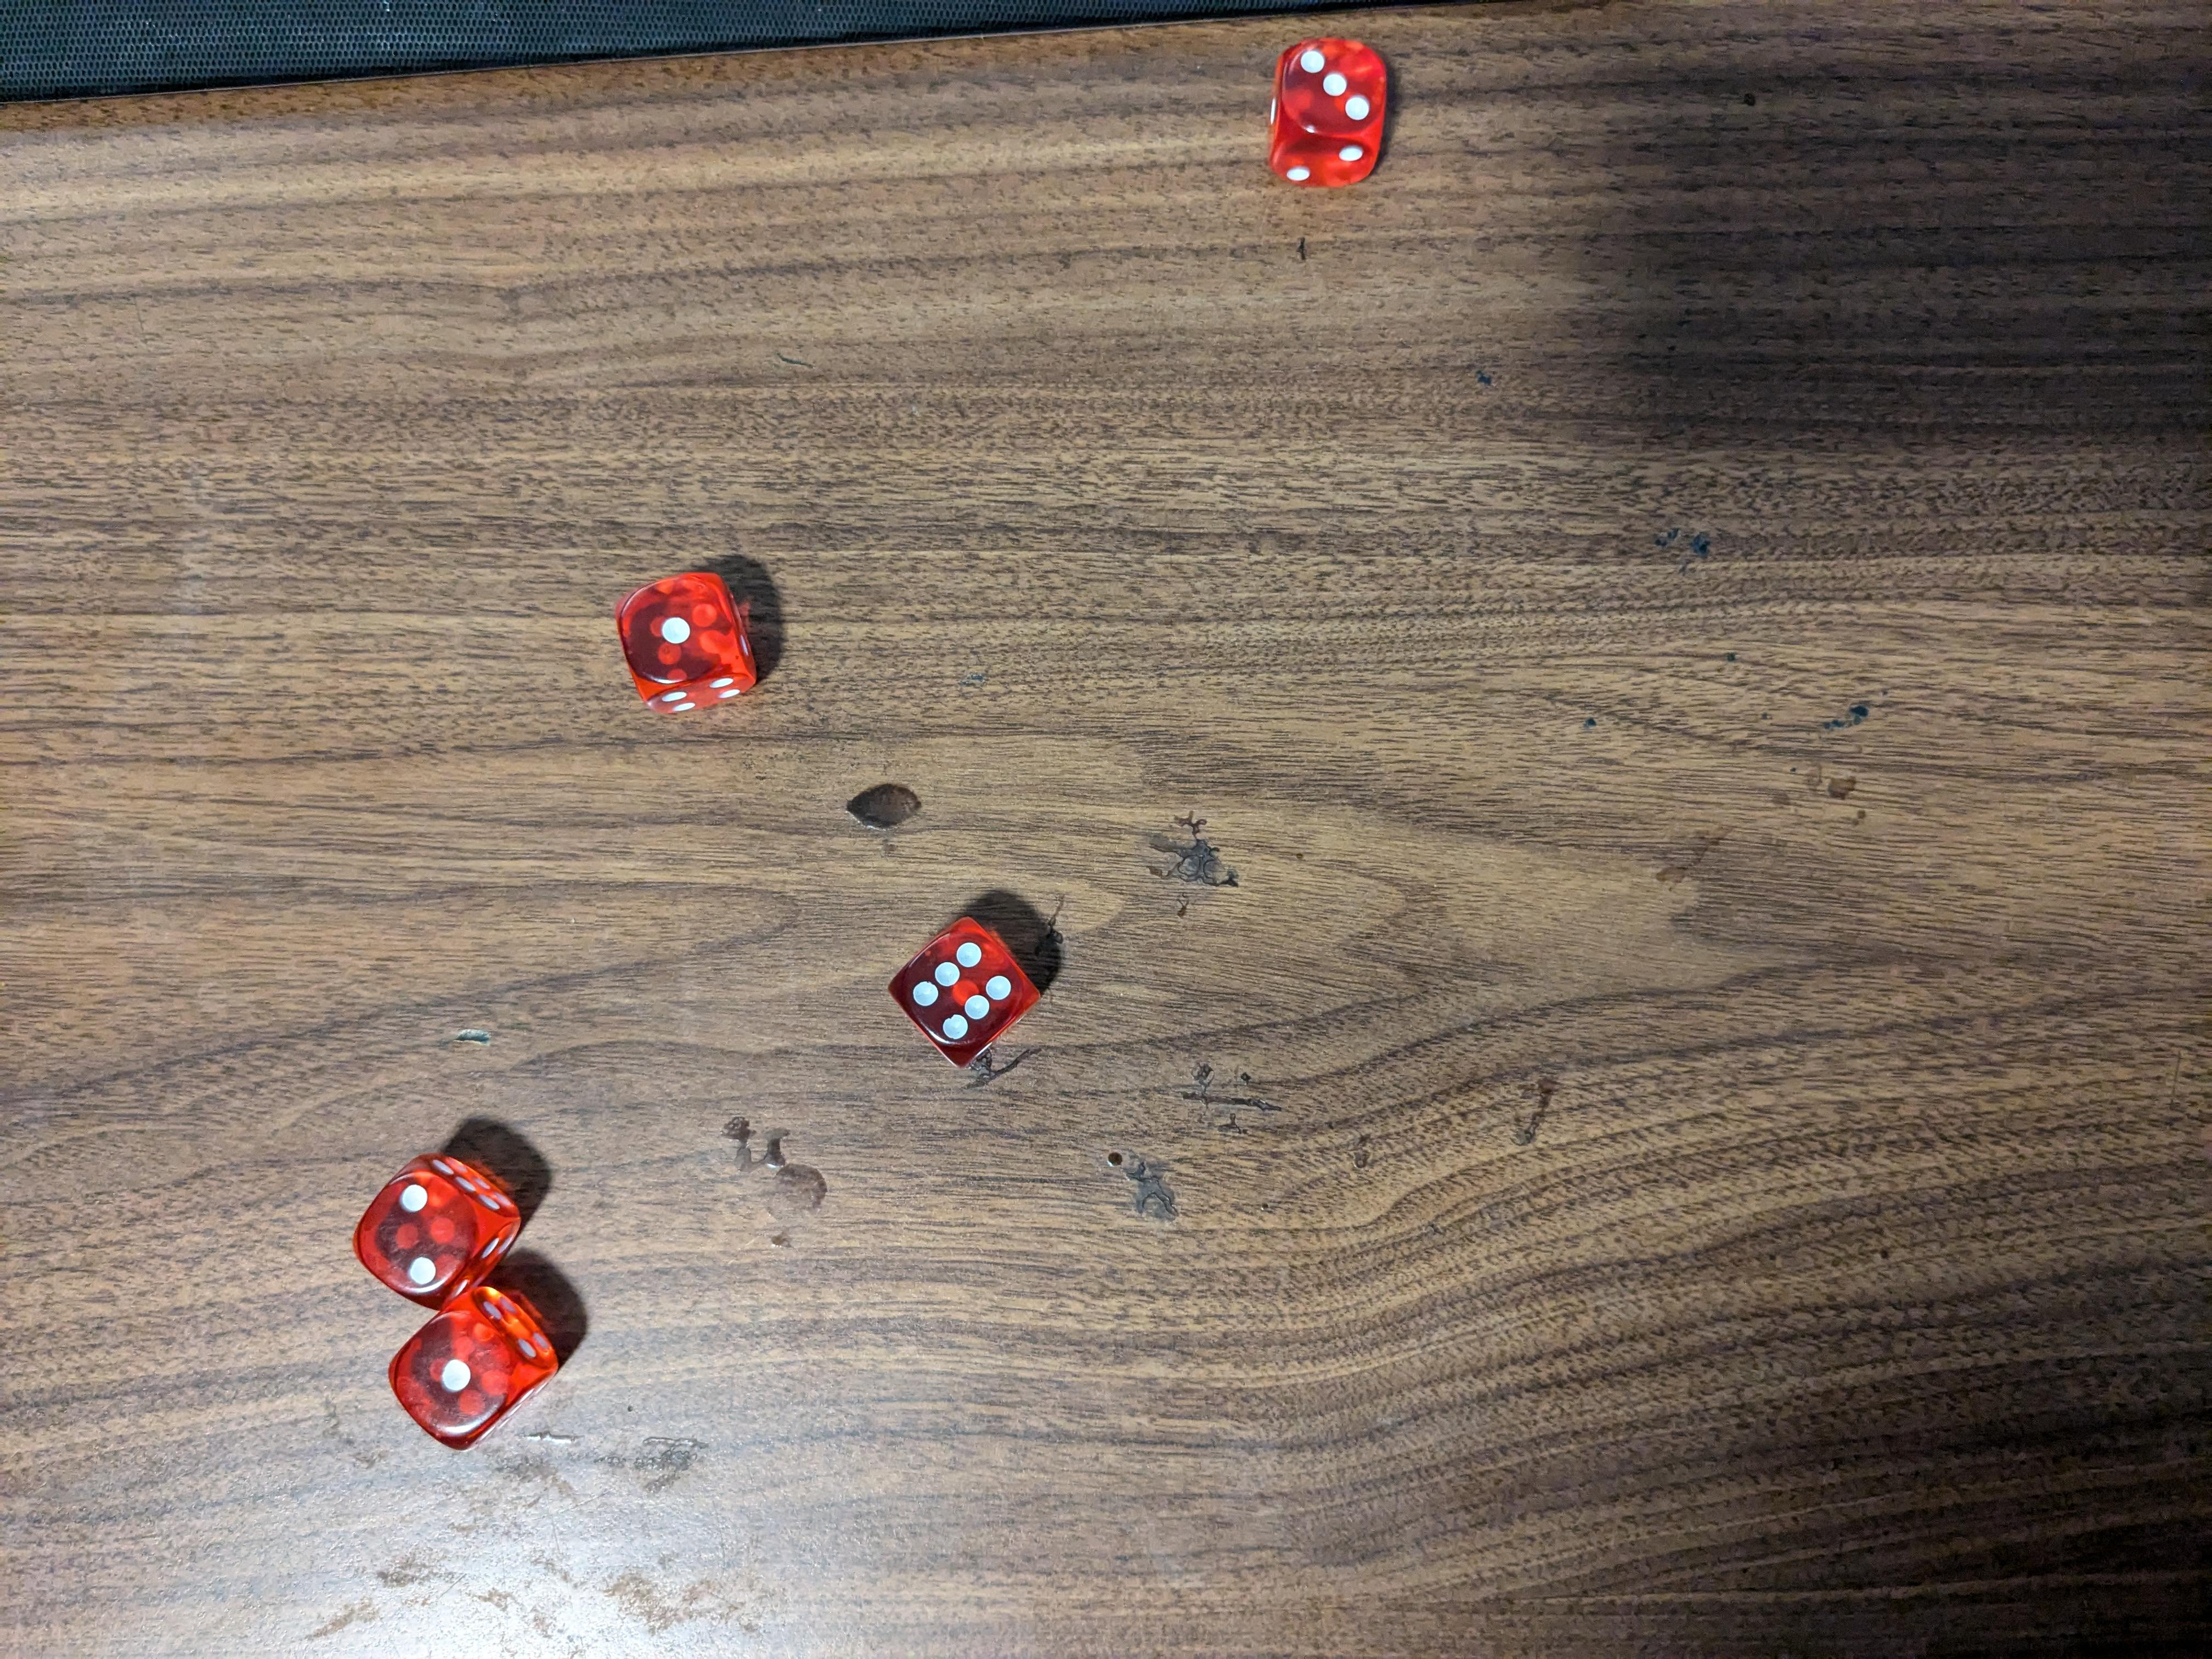one: (395, 1290, 563, 1450), (610, 570, 765, 725)
six: (890, 910, 1047, 1070)
three: (1268, 35, 1392, 199)
two: (355, 1148, 523, 1312)
